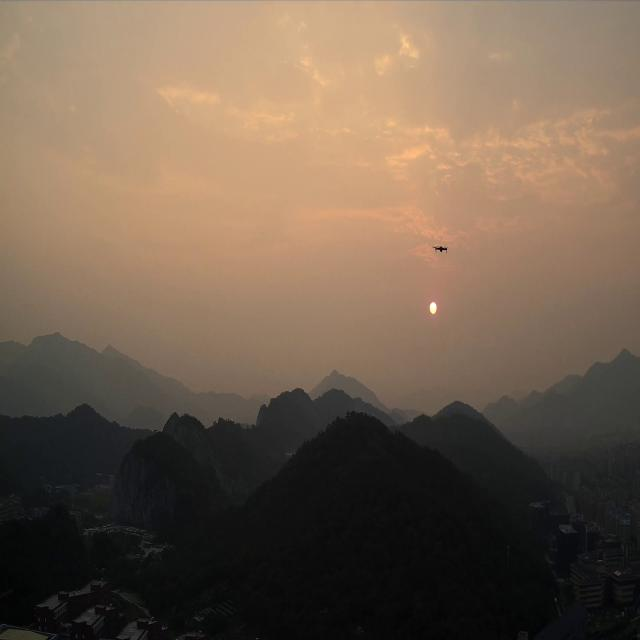UAV: (432, 245, 448, 254)
